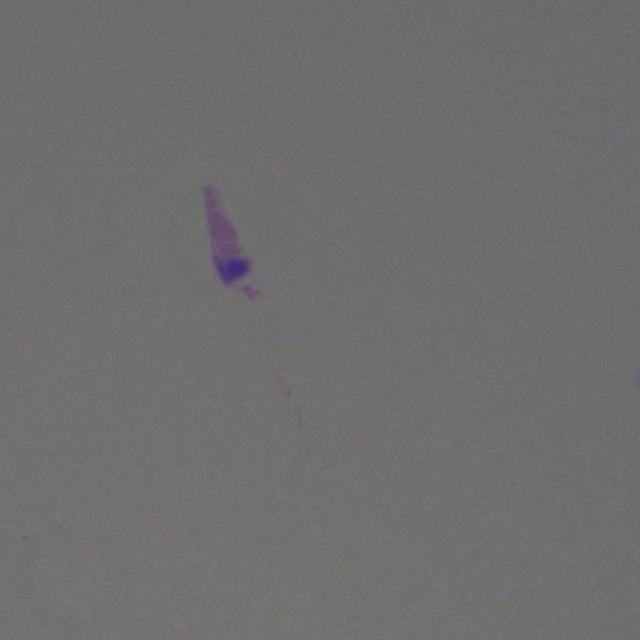monolayer-eWW4: (199, 184, 244, 262)
